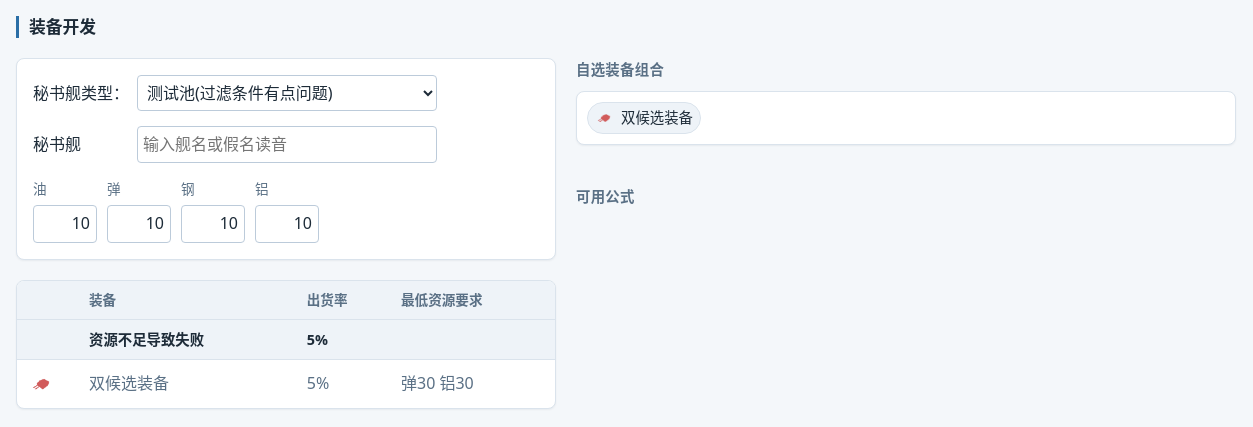
DevelopmentView — 「可用公式」的选中语义 › 方向键与点击走同一条应用路径
Click the button "双候选装备". click: click(644, 118)
box: [587,102,701,134]
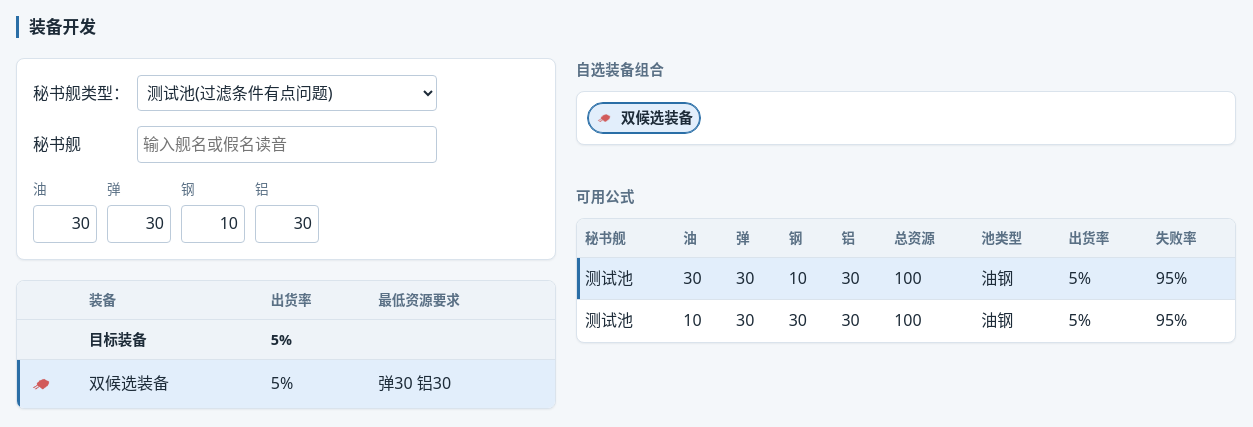
Expected: the field with id "fuel" holds "30", [33,205,97,243]
Press ArrowDown in the row "测试池 30 30 10 30 100 油钢 5% 95%", box [577,257,1235,300]
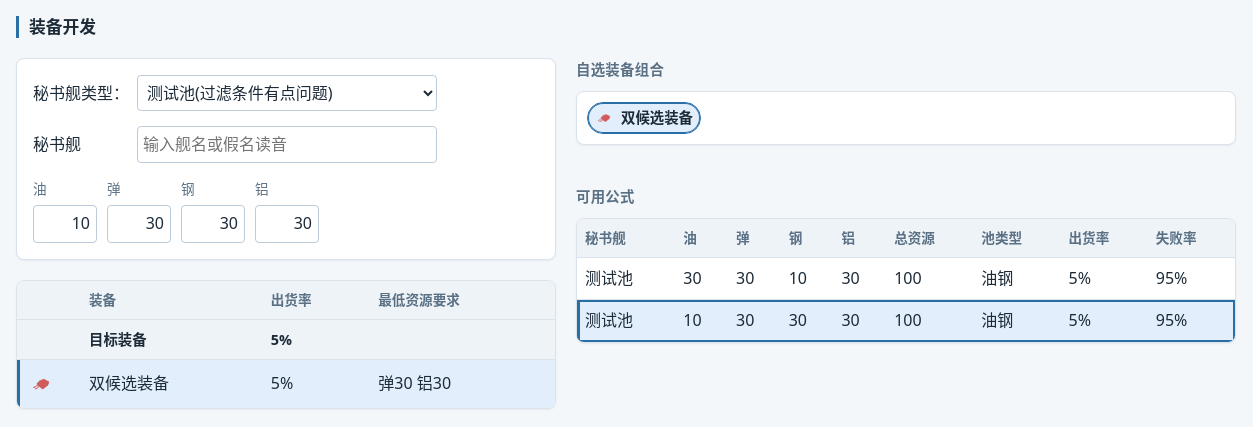
Expected: the field with id "fuel" holds "10", [33,205,97,243]
Press ArrowUp in the row "测试池 10 30 30 30 100 油钢 5% 95%", box [577,300,1235,342]
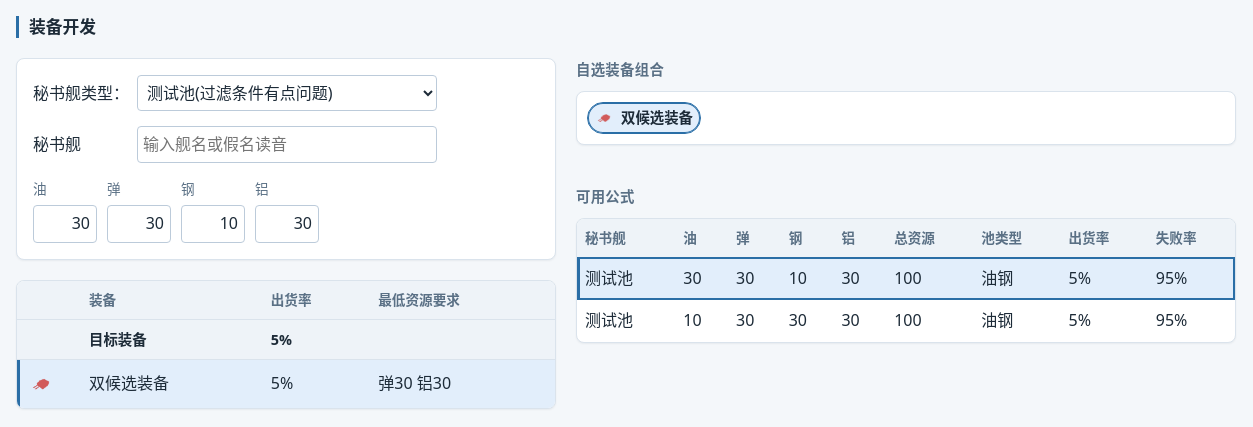
Expected: the field with id "fuel" holds "30", [33,205,97,243]
